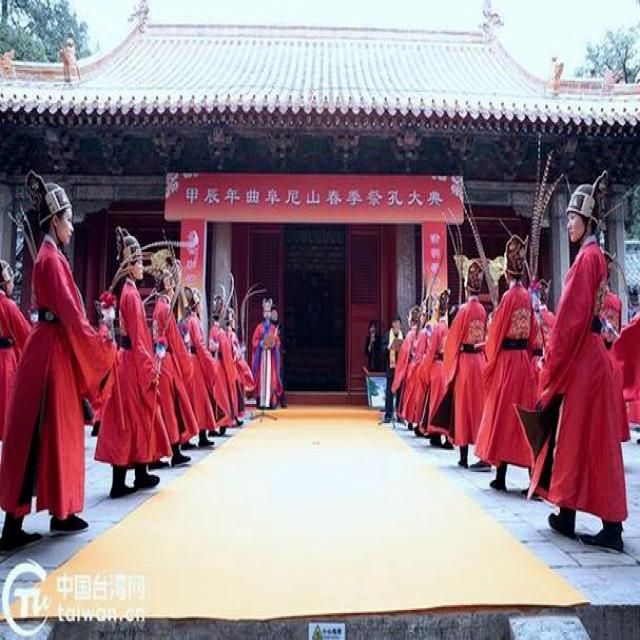Reeves-s Pheasant: (520, 152, 568, 279), (113, 228, 183, 307), (464, 195, 500, 301), (450, 225, 465, 280)
